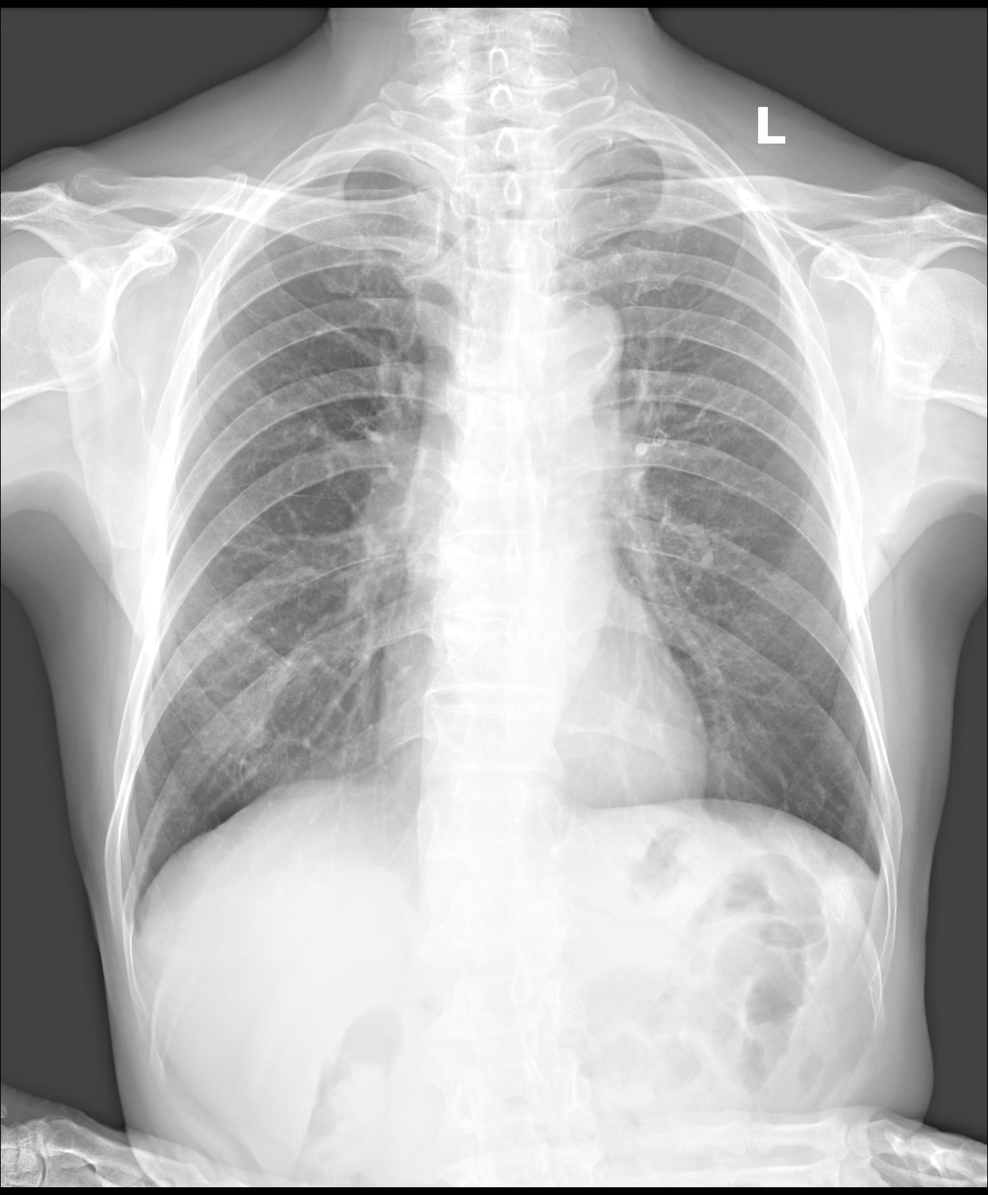Aortic enlargement: (523, 294, 622, 394)
Pleural thickening: (684, 144, 732, 190)
